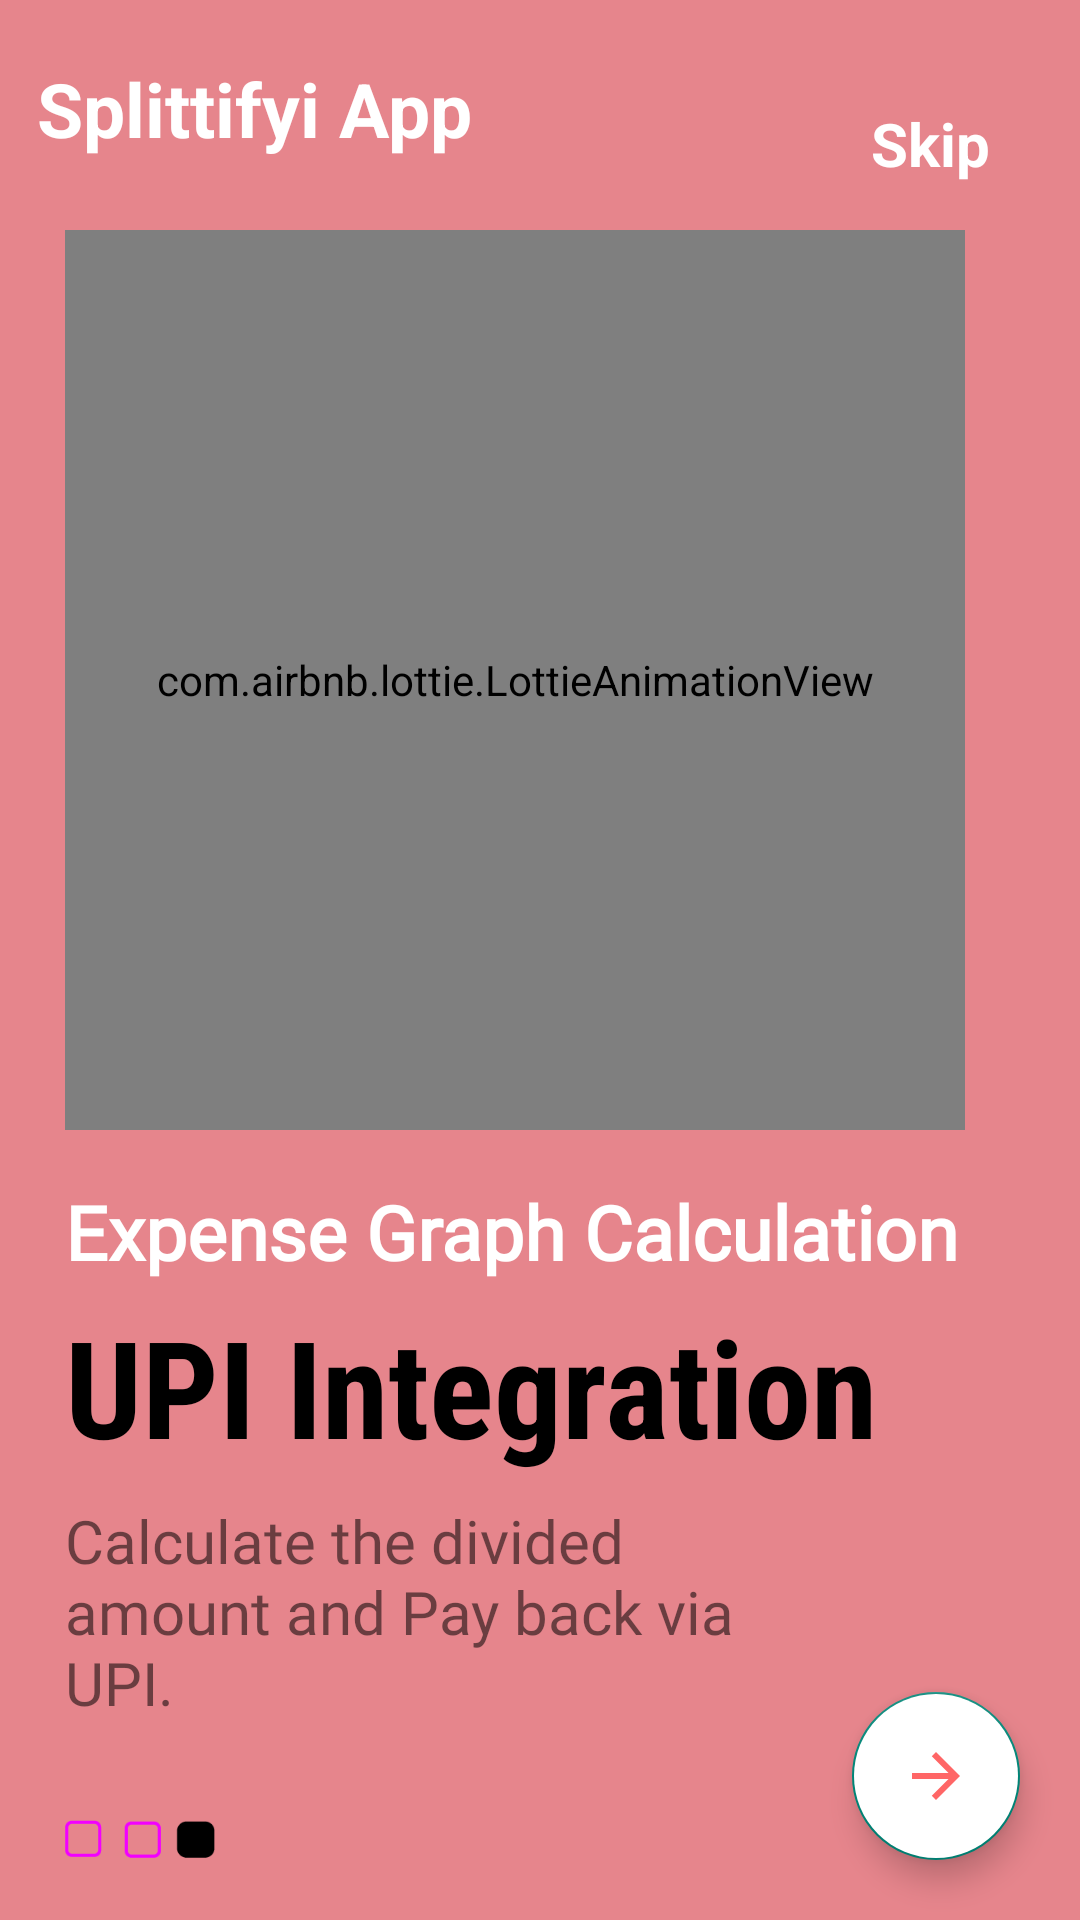

Where to tap for icons on this 1080 x 1920 app screen, as (x=x, y=y):
arrow forward: (x=936, y=1776)
